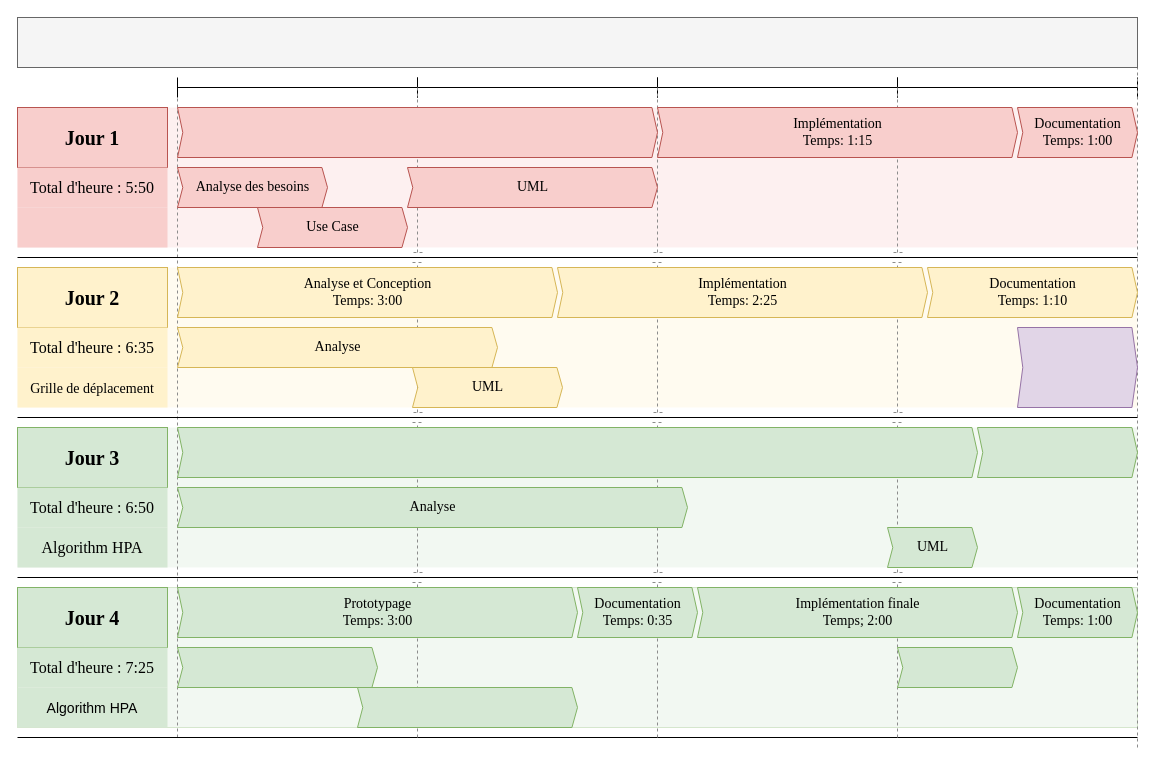
Image size: 1156x766. Some labels were removed from this diagram. The shapes that lost their labels are listed below. From the top down, each one's centre as x and y in pixels, then its label:
At (x=577, y=42): "Semaine 3 (16.05.2022 - 19.05.2022): Pathfinding HPA".
At (x=417, y=132): "Analyse et conception Temps: 3:35".
At (x=92, y=227): "Creation d'entités ennemi".
At (x=1077, y=367): "Rendez-vous Expert 2 Temps: 30m".
At (x=577, y=452): "Analyse et Conception Temps: 5:25".
At (x=1057, y=452): "Documentation Temps: 1:25".
At (x=277, y=667): "Pathfinding 1ère couche (chunk)".
At (x=957, y=667): "Test Unitaire".
At (x=467, y=707): "Pathfinding 2eme couche (Cellule)".
